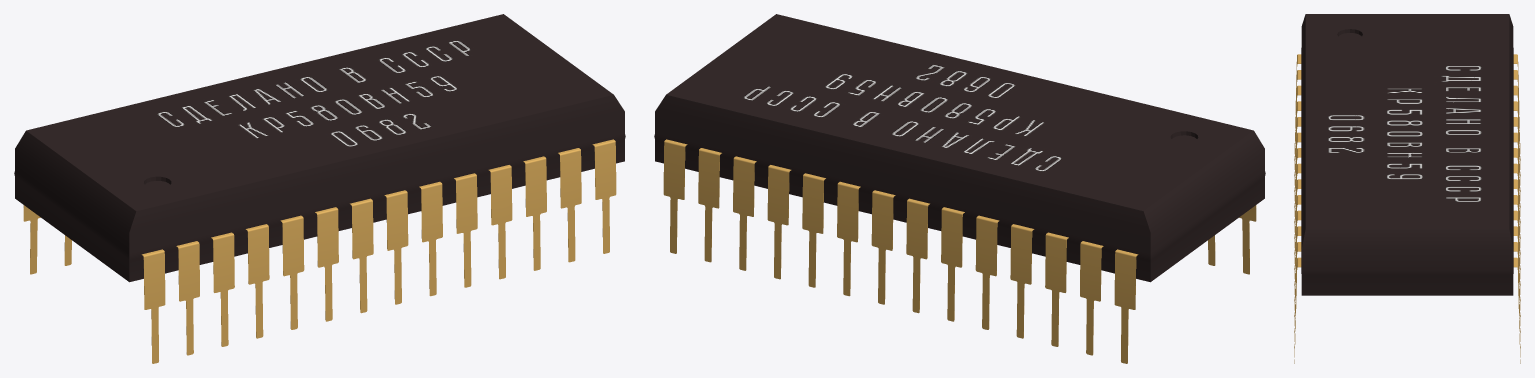
Rendered from microchip.glb.
The picture shows the model from 3 angles, left to right: view 1: azimuth 30°, elevation 25°; view 2: azimuth 150°, elevation 25°; view 3: azimuth 270°, elevation 25°; orthographic projection. The views are drawn at different scales.
Parts seen in each view (by area): view 1: Box001_Material #26_0_4, Line001_Material #25_0_7; view 2: Box001_Material #26_0_4, Line001_Material #25_0_7; view 3: Box001_Material #26_0_4, Line001_Material #25_0_7.
Part boxes in pixels (x1,y1,x2,y2): Box001_Material #26_0_4: [14, 14, 625, 282]; Line001_Material #25_0_7: [23, 139, 616, 363]; Box001_Material #26_0_4: [654, 14, 1265, 282]; Line001_Material #25_0_7: [663, 139, 1256, 363]; Box001_Material #26_0_4: [1301, 14, 1513, 295]; Line001_Material #25_0_7: [1294, 54, 1520, 363].
Bounding box in the file's own units: 0.0501 × 0.0146 × 0.0214.
2 materials, 1 textured.
